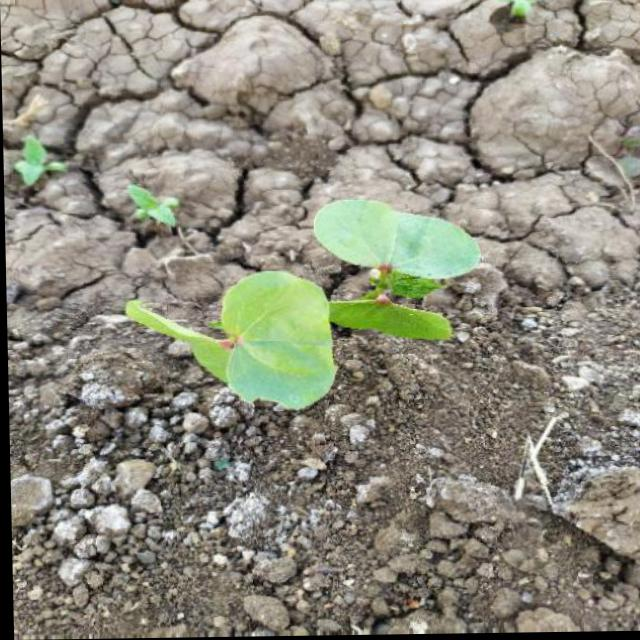weed: (119, 196, 504, 436)
